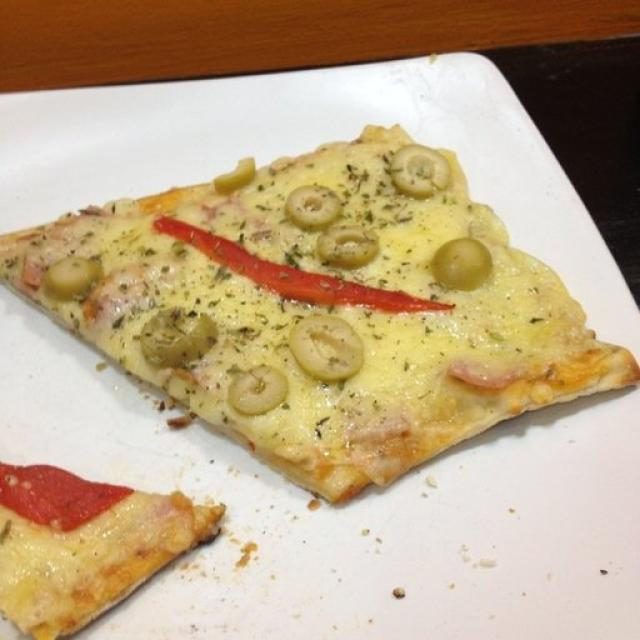Olives: (139, 293, 223, 369), (294, 317, 366, 379), (427, 234, 493, 291), (390, 140, 453, 194), (226, 367, 289, 412), (44, 255, 97, 308), (319, 223, 379, 268), (288, 183, 345, 225), (214, 156, 260, 192)
Pizza: (0, 127, 639, 504), (0, 462, 225, 640)
Red Pepper: (156, 211, 457, 329), (0, 457, 134, 525)
